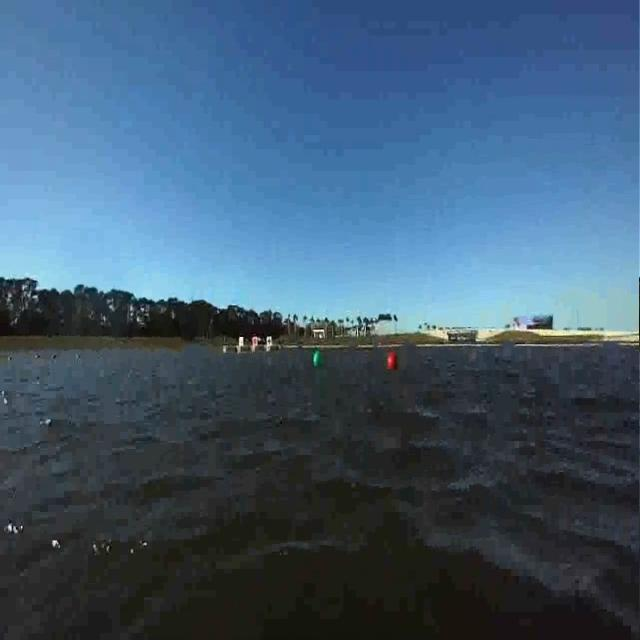green-buoy: (312, 346, 324, 370)
red-buoy: (385, 352, 395, 371)
